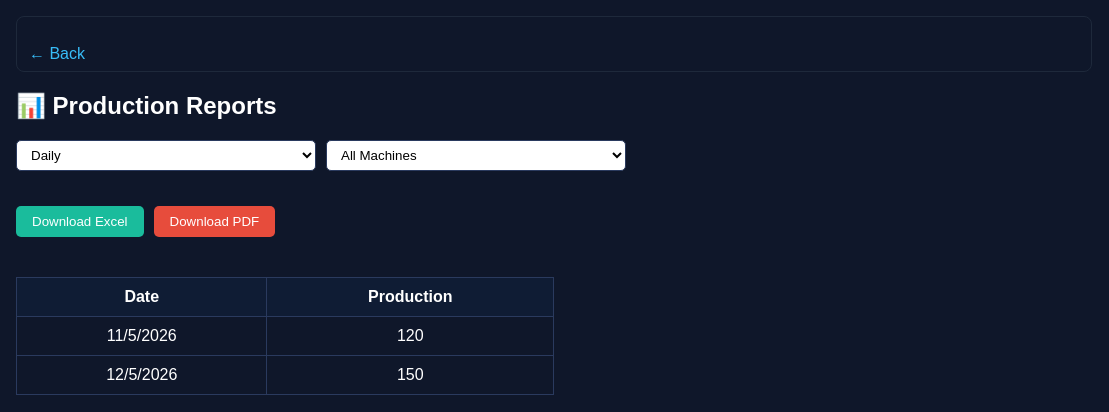
Test case: Reports Page › shows date range inputs for yearly reports
Select "Yearly" in the 1st dropdown: (166, 155) [16,140,316,171]
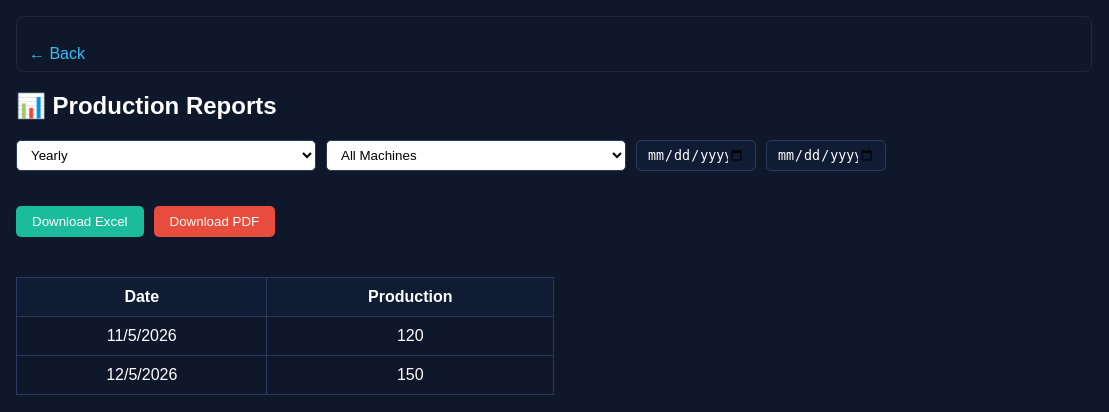
Now the 1st date field is shown, box [636,140,756,171]
